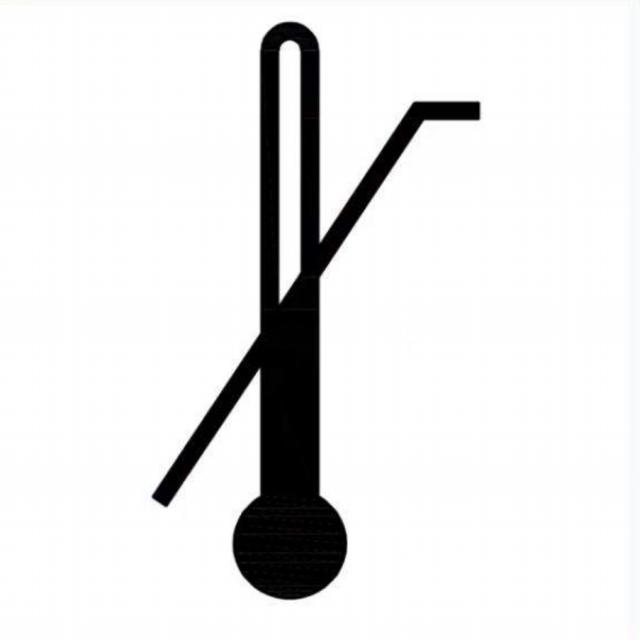Upper limit of temperature: (148, 19, 485, 605)
